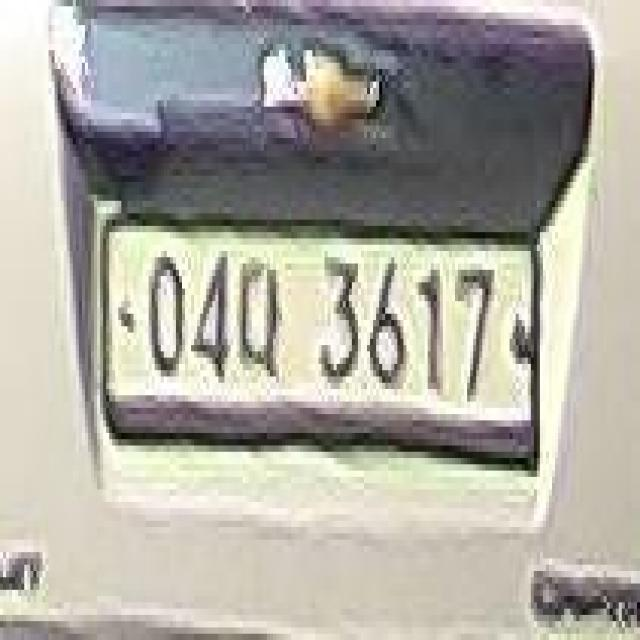illegal_plate: (105, 201, 542, 500)
